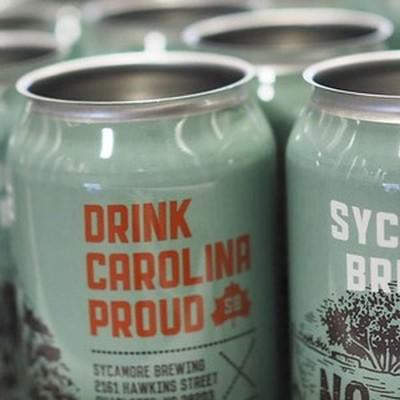beer: (15, 50, 400, 397)
